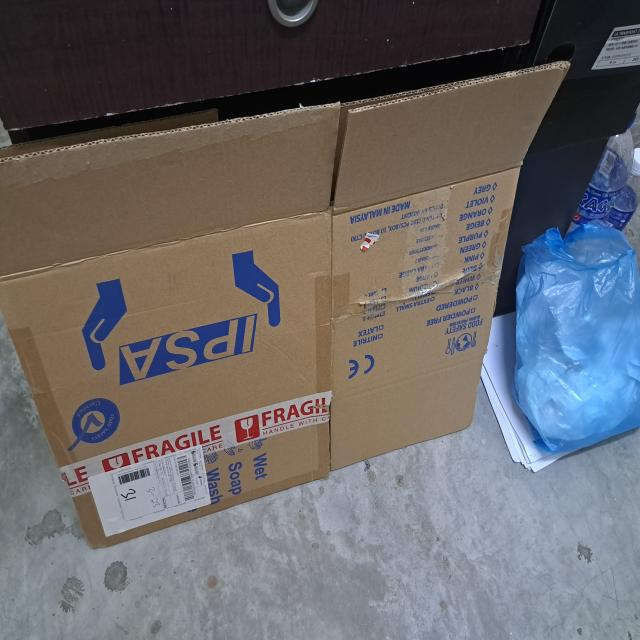cardboard: (0, 62, 576, 550)
